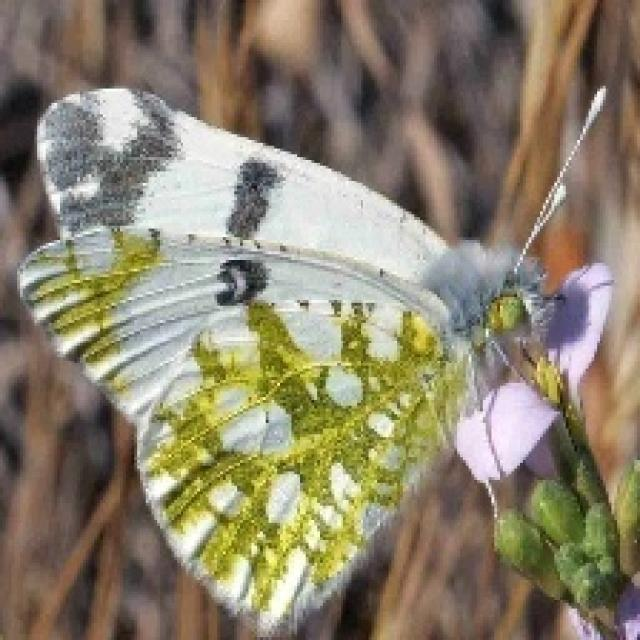butterfly: (19, 87, 636, 636)
